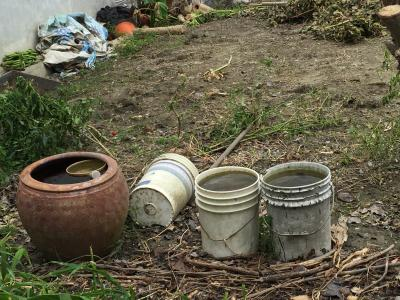bowl: (11, 148, 133, 265)
bucket: (258, 160, 337, 262), (192, 164, 266, 264), (127, 152, 200, 233)
plastic_bag: (40, 14, 107, 59)
